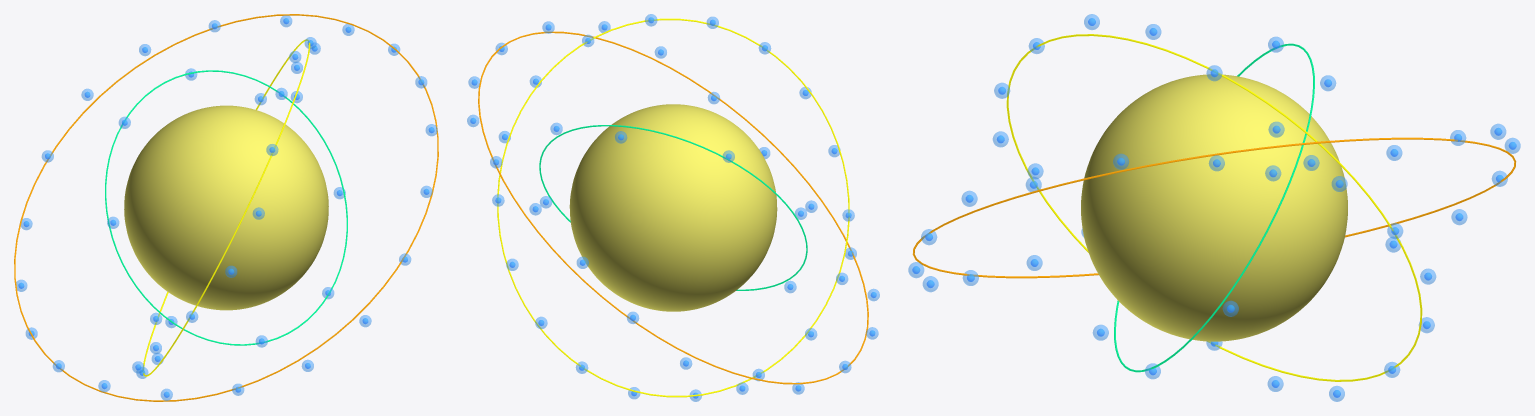
The picture shows the model from 3 angles, left to right: view 1: azimuth 30°, elevation 25°; view 2: azimuth 150°, elevation 25°; view 3: azimuth 270°, elevation 25°; orthographic projection. The views are drawn at different scales.
Parts seen in each view (by area): view 1: Cd, object 61, object 7, object 24; view 2: Cd, object 61, object 24, object 7; view 3: Cd, object 61, object 24, object 7.
Boxes of the visible parts, x1,y1,x2,y2 form: Cd: (124, 105, 328, 310); object 61: (14, 14, 438, 401); object 7: (105, 70, 347, 345); object 24: (143, 39, 310, 376); Cd: (569, 104, 777, 311); object 61: (478, 31, 868, 384); object 24: (497, 18, 849, 397); object 7: (539, 125, 807, 290); Cd: (1081, 74, 1347, 341); object 61: (912, 137, 1516, 278); object 24: (1006, 34, 1422, 381); object 7: (1114, 43, 1314, 372).
Size of the model in its own units: 5.17 by 4.62 by 6.04.
